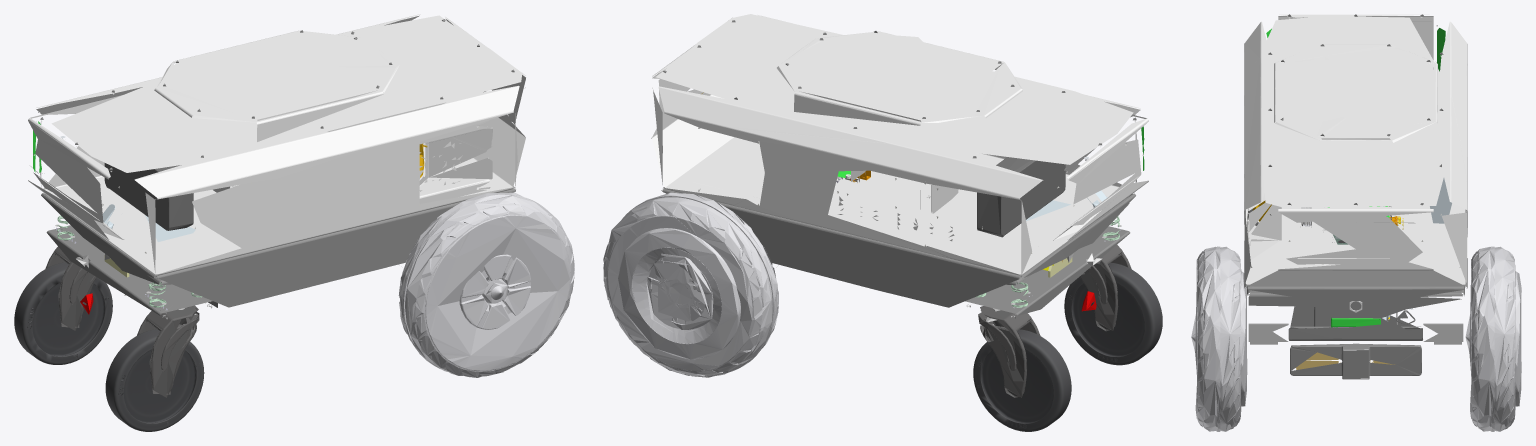
The model's file is nova-carter.glb.
3 views of the same model, side by side, from view 1: azimuth 30°, elevation 25°; view 2: azimuth 150°, elevation 25°; view 3: azimuth 270°, elevation 25° (orthographic). The views are drawn at different scales.
Parts seen in each view (by area): view 1: caster_swivel.obj, caster_wheel.obj; view 2: caster_swivel.obj, caster_wheel.obj; view 3: caster_swivel.obj.
Part boxes in pixels (left/top/right/bottom): caster_swivel.obj: left=28, top=14, right=574, bottom=397; caster_wheel.obj: left=14, top=262, right=204, bottom=431; caster_swivel.obj: left=603, top=14, right=1148, bottom=397; caster_wheel.obj: left=973, top=262, right=1162, bottom=431; caster_swivel.obj: left=1191, top=14, right=1521, bottom=431.
Bounding box in the file's own units: 0.7277 × 0.4798 × 0.4979.
Materials: 2 (2 with a texture image).
